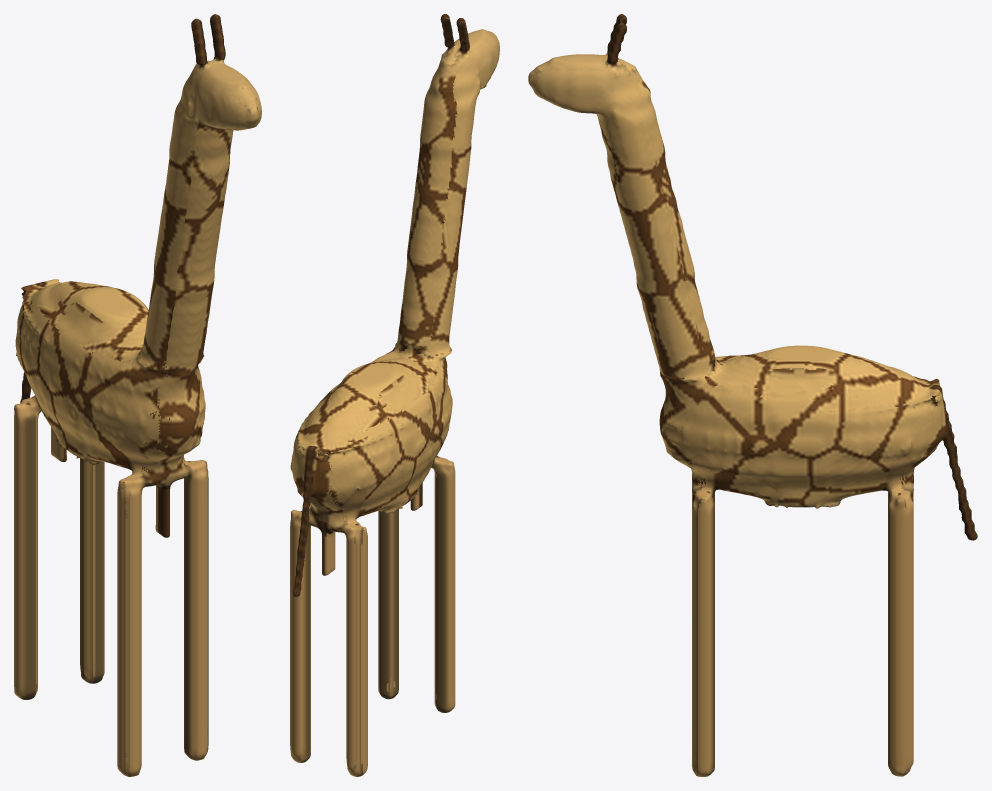
3 views of the same model, side by side, from view 1: azimuth 30°, elevation 25°; view 2: azimuth 150°, elevation 25°; view 3: azimuth 270°, elevation 25° (orthographic). The views are drawn at different scales.
Parts seen in each view (by area): view 1: animal; view 2: animal; view 3: animal.
Part boxes in pixels (x1,y1,x2,y2): animal: (14,14,261,776); animal: (290,14,499,776); animal: (528,14,977,776).
Bounding box in the file's own units: 0.6975 × 4.55 × 2.5.
Materials: 1 (1 with a texture image).
